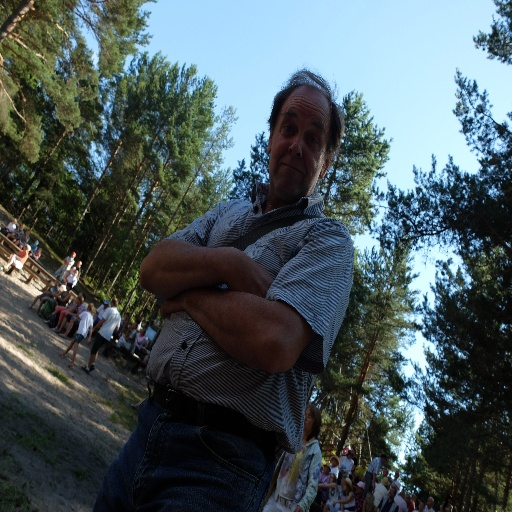hand: (237, 264, 274, 299), (160, 292, 189, 319), (293, 505, 303, 511)
